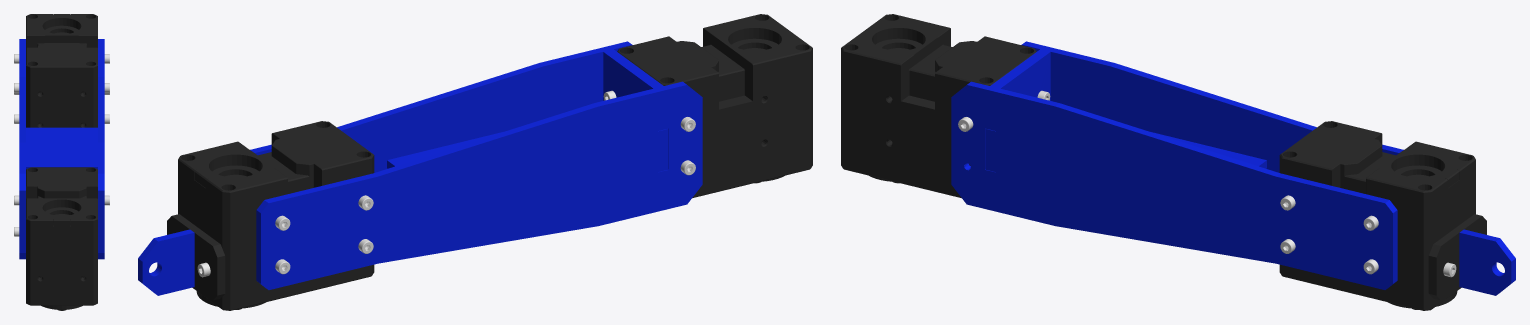
3 renders of one model, left to right at view 1: azimuth 30°, elevation 25°; view 2: azimuth 150°, elevation 25°; view 3: azimuth 270°, elevation 25°, orthographic. The views are drawn at different scales.
Visible parts, largest first — view 1: tmp_export_link_2; view 2: tmp_export_link_2; view 3: tmp_export_link_2.
Boxes of the visible parts, bbox=[...] form: tmp_export_link_2: bbox=[14, 14, 109, 310]; tmp_export_link_2: bbox=[138, 14, 812, 310]; tmp_export_link_2: bbox=[841, 14, 1515, 310].
Bounding box in the file's own units: 143 × 225 × 51.8.
